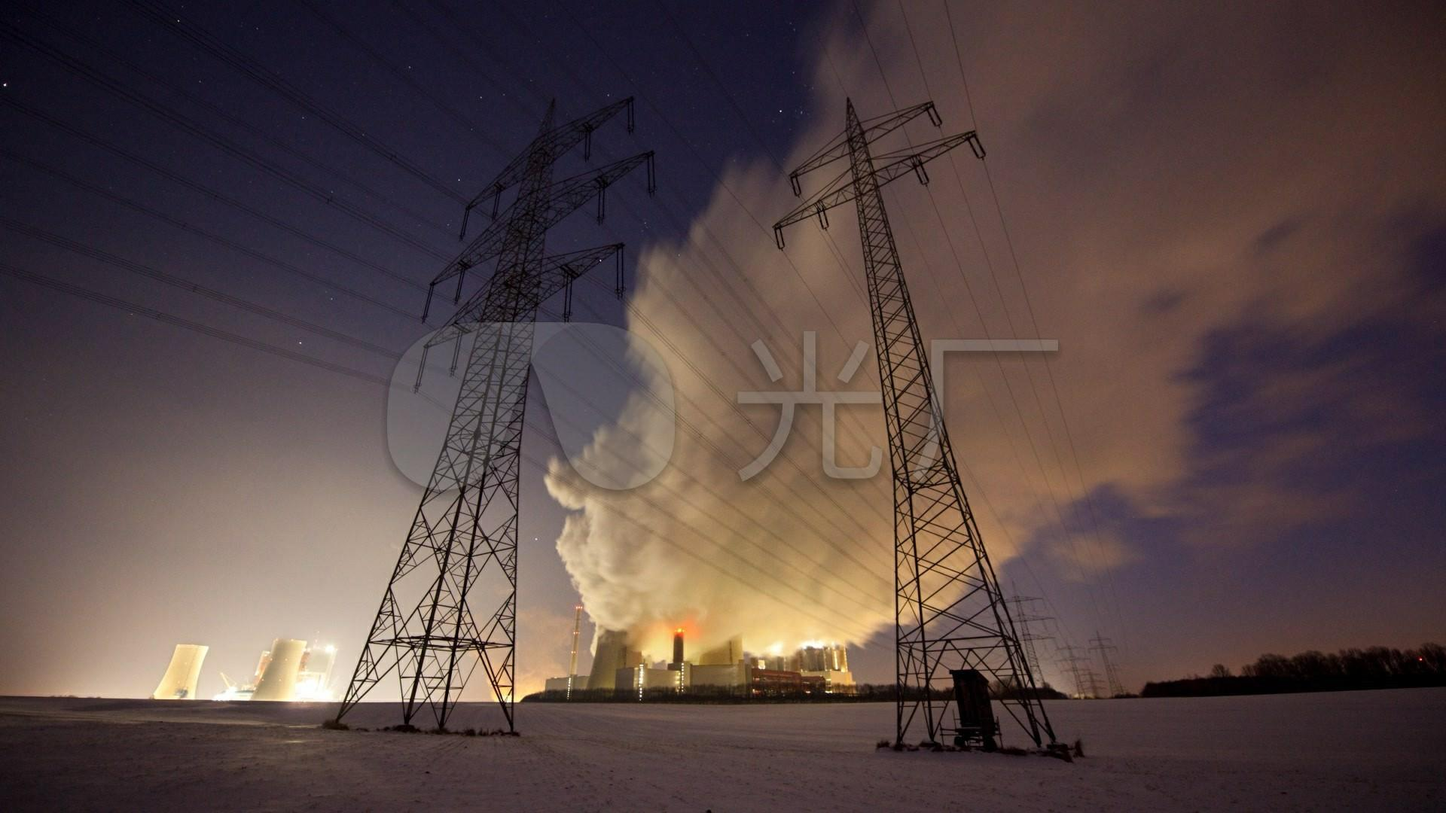power_tower: (331, 82, 671, 731), (767, 89, 1059, 733), (1007, 571, 1058, 686), (1084, 630, 1135, 702), (1060, 639, 1092, 702)
